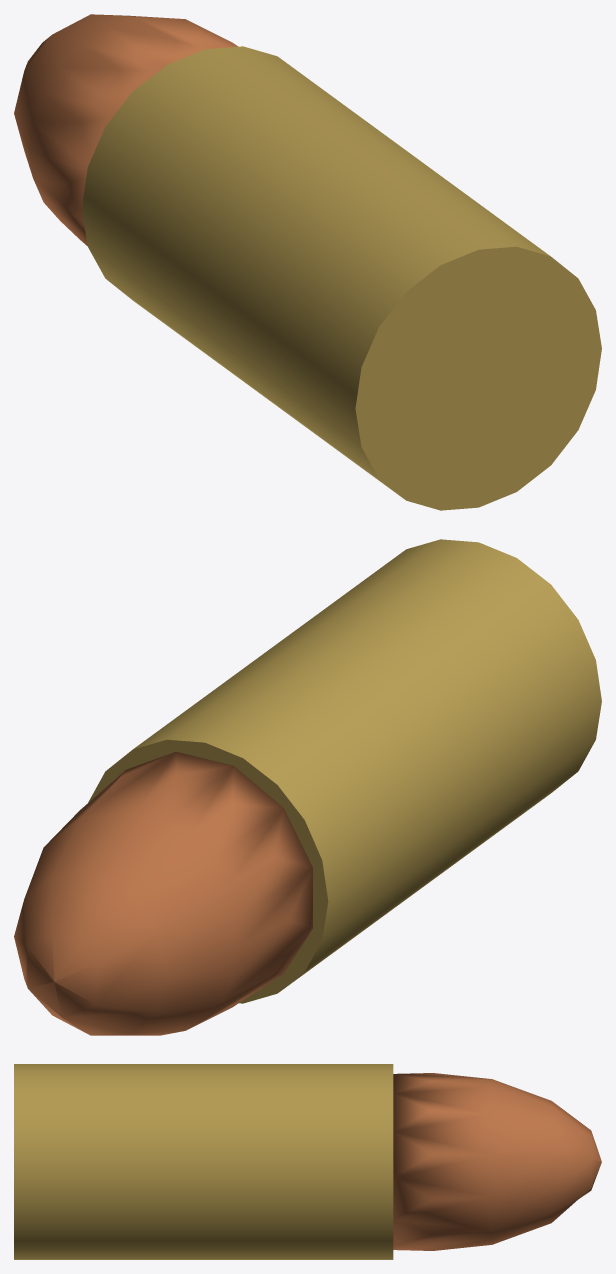
Rendered from hk-compact-cartridge-low.glb.
The picture shows the model from 3 angles, top to bottom: view 1: azimuth 30°, elevation 25°; view 2: azimuth 150°, elevation 25°; view 3: azimuth 270°, elevation 25°; orthographic projection. The views are drawn at different scales.
Visible parts, largest first — view 1: VisibleCartridgeCase, VisibleCartridgeTip; view 2: VisibleCartridgeCase, VisibleCartridgeTip; view 3: VisibleCartridgeCase, VisibleCartridgeTip.
Part boxes in pixels (x1=…): VisibleCartridgeCase: x1=81, y1=46, x2=601, y2=510; VisibleCartridgeTip: x1=14, y1=14, x2=237, y2=245; VisibleCartridgeCase: x1=88, y1=539, x2=601, y2=1003; VisibleCartridgeTip: x1=14, y1=751, x2=312, y2=1035; VisibleCartridgeCase: x1=14, y1=1064, x2=393, y2=1259; VisibleCartridgeTip: x1=393, y1=1073, x2=601, y2=1250.
Bounding box in the file's own units: 0.00996 × 0.00996 × 0.0297.
